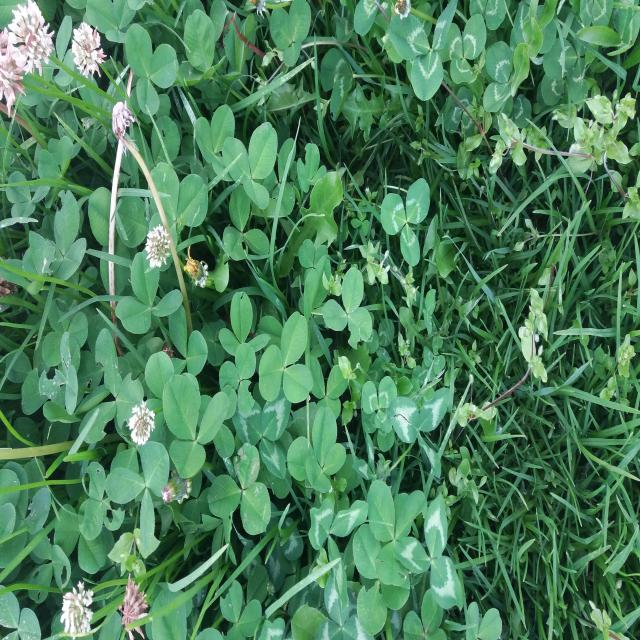Four Leaf Clover: (288, 406, 346, 493)
